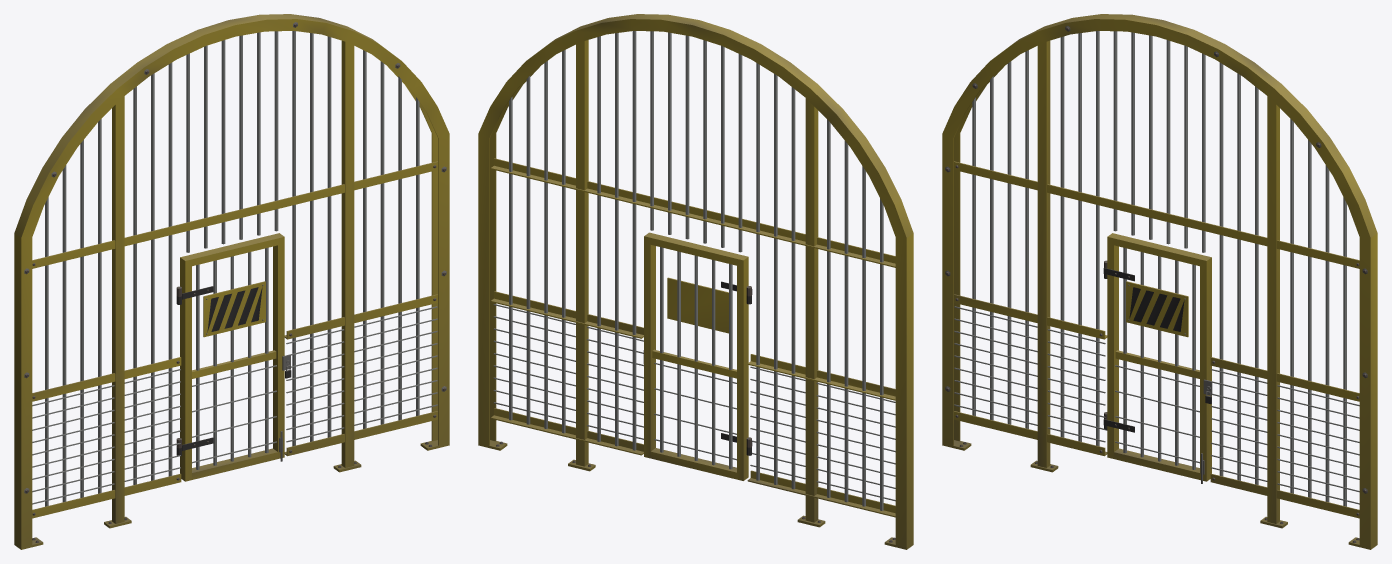
Rendered from tunnel_grille.glb.
3 renders of one model, left to right at view 1: azimuth 30°, elevation 25°; view 2: azimuth 150°, elevation 25°; view 3: azimuth 330°, elevation 25°, orthographic.
Visible parts, largest first — view 1: tunnel_grille; view 2: tunnel_grille; view 3: tunnel_grille.
Boxes of the visible parts, <box> form: tunnel_grille: <box>14,14,449,549</box>; tunnel_grille: <box>478,14,913,549</box>; tunnel_grille: <box>942,14,1377,549</box>.
Bounding box in the file's own units: 3.88 × 4.09 × 0.12.
